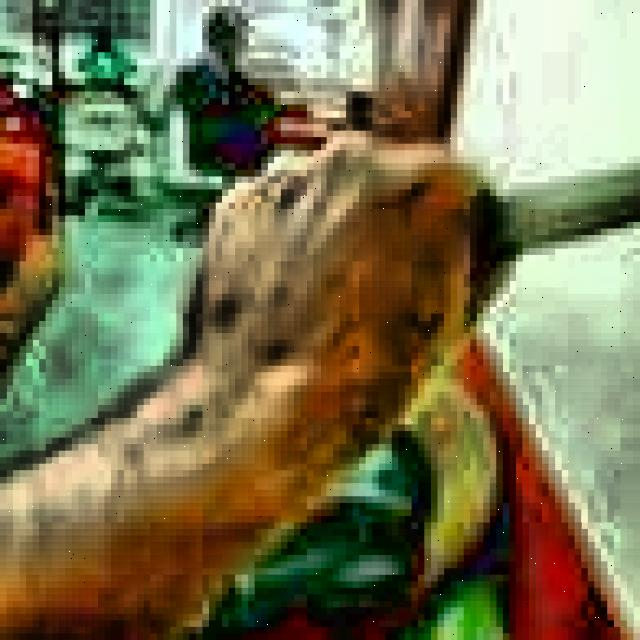knife: (474, 166, 640, 277)
